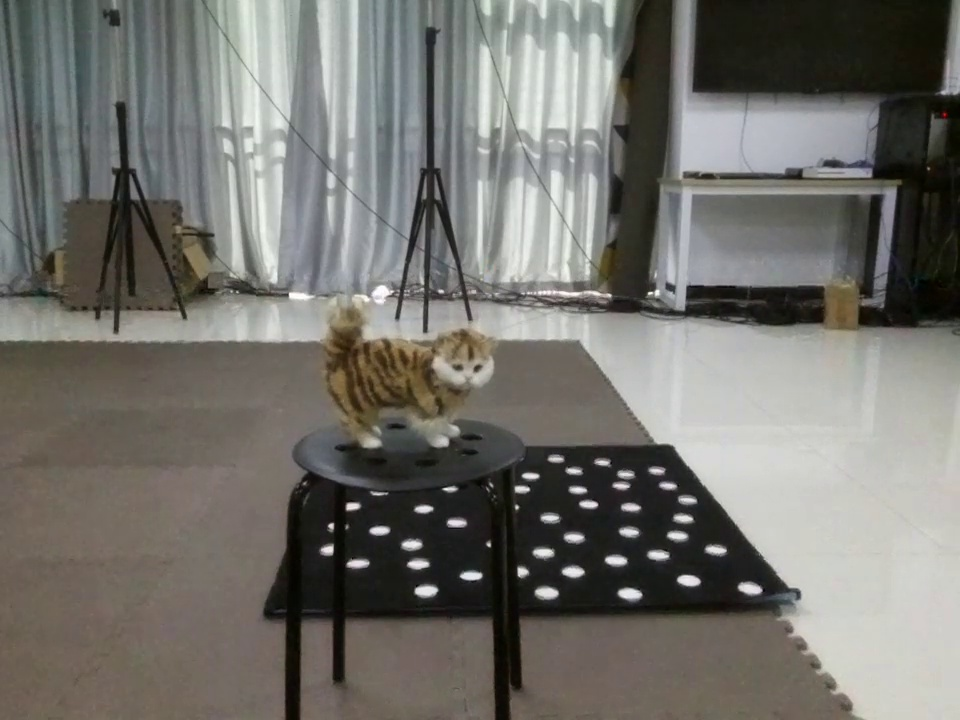cat: (288, 299, 513, 456)
